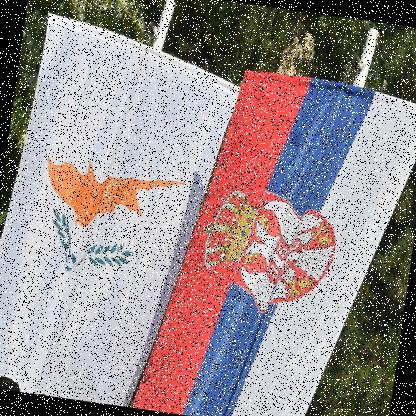rs: (132, 59, 416, 416)
